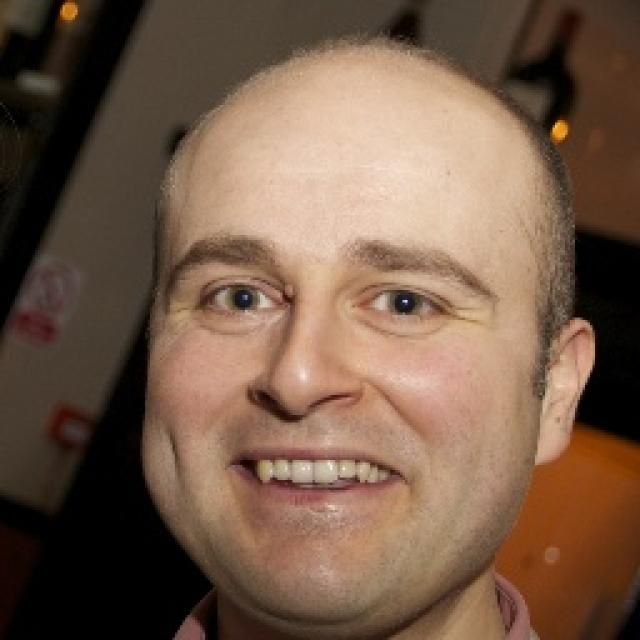earlobe: (530, 411, 574, 467)
eye: (194, 279, 283, 317), (358, 285, 450, 320)
nose: (240, 385, 370, 467)
wholeear: (530, 318, 595, 468)
